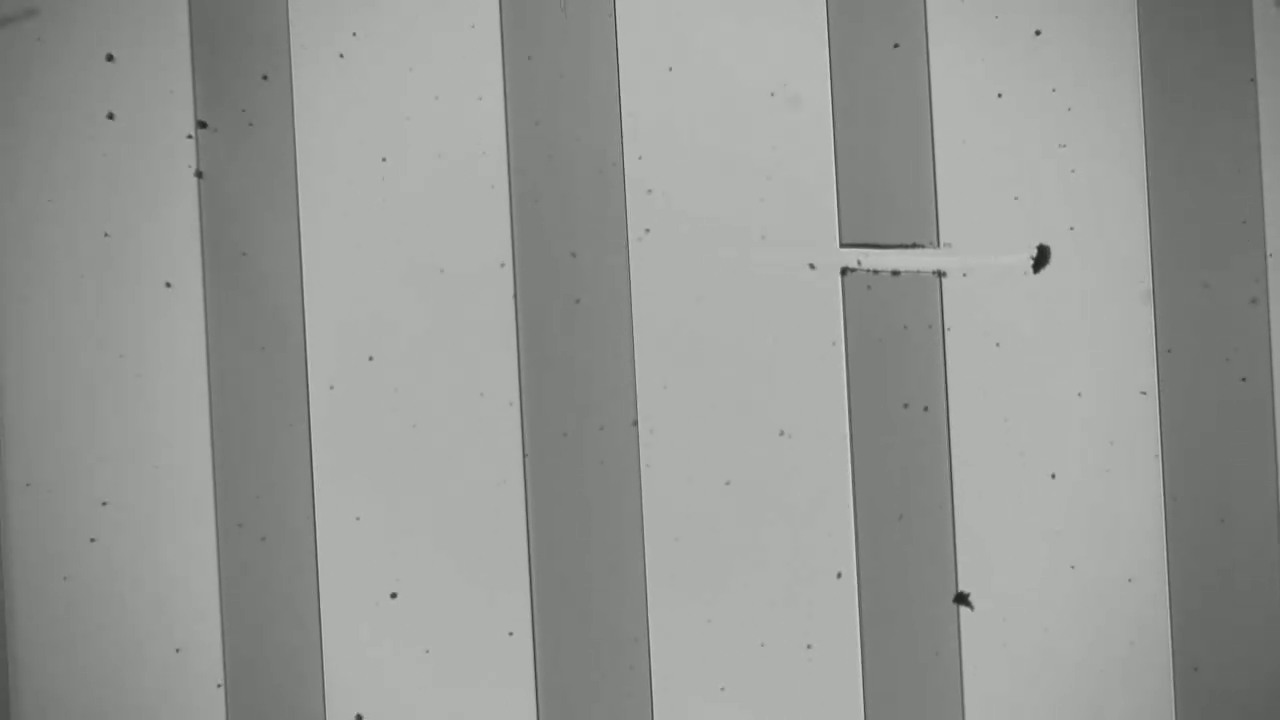Short_circuit: (808, 210, 973, 304)
